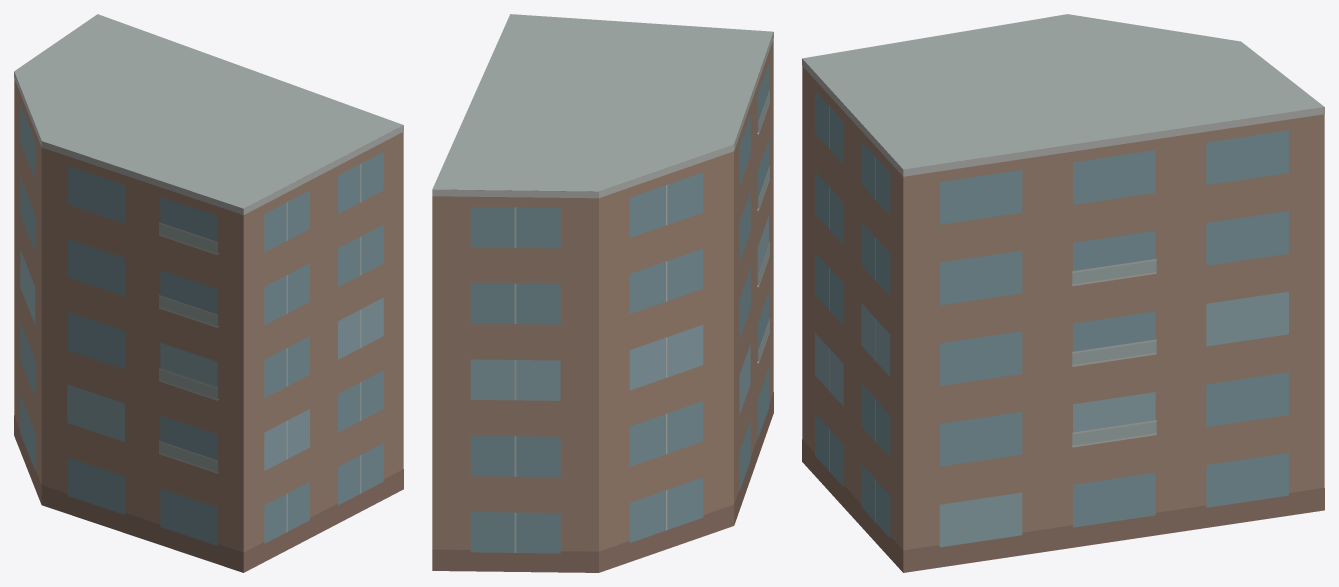
File: survey-upis-32753667.glb
The picture shows the model from 3 angles, left to right: view 1: azimuth 30°, elevation 25°; view 2: azimuth 150°, elevation 25°; view 3: azimuth 270°, elevation 25°; orthographic projection. The views are drawn at different scales.
Parts seen in each view (by area): view 1: survey-upis-32753667.tmp; view 2: survey-upis-32753667.tmp; view 3: survey-upis-32753667.tmp.
Boxes of the visible parts, left/top/right/bottom form: survey-upis-32753667.tmp: left=14, top=14, right=403, bottom=572; survey-upis-32753667.tmp: left=432, top=14, right=773, bottom=572; survey-upis-32753667.tmp: left=802, top=14, right=1324, bottom=572.
Size of the model in its own units: 11.39 by 13.75 by 16.16.
